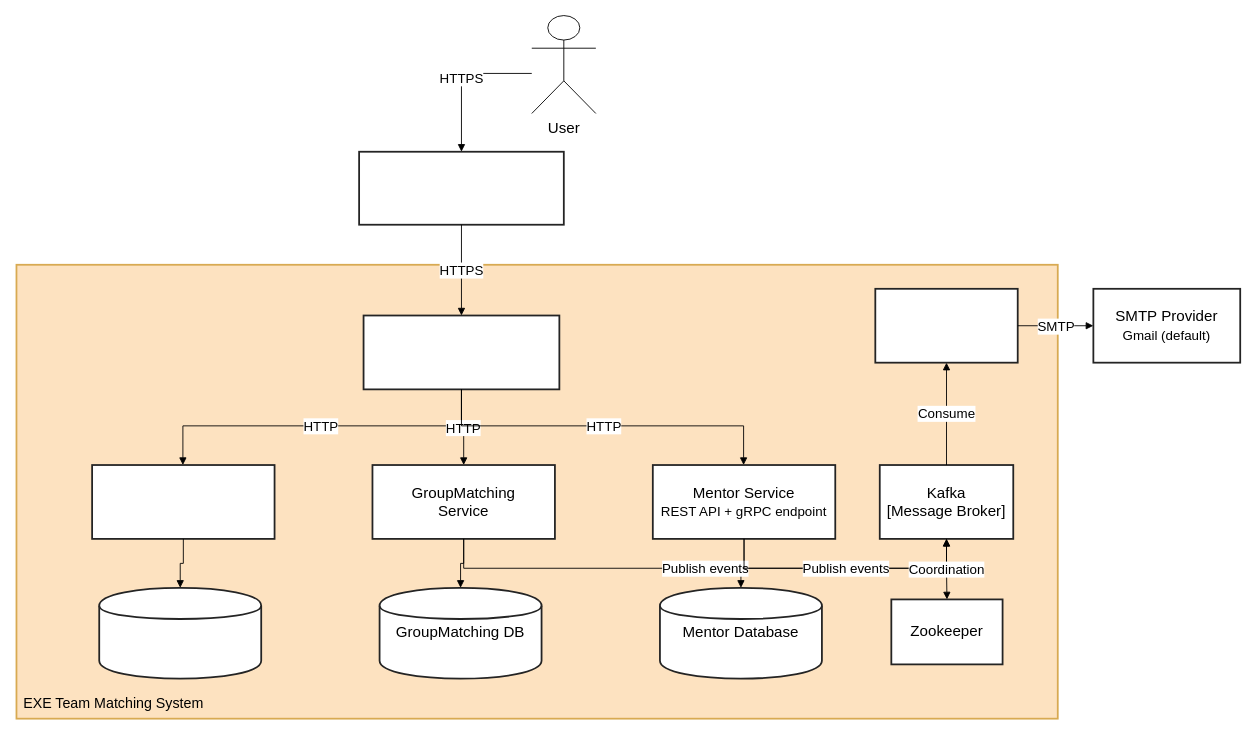
Image size: 1256x735. Some labels were removed from this diagram. Each missing label, with the centre of its shape:
"Identity Database" belongs at [180,633].
"IdentitySemester Service" belongs at [183,501].
"Nginx [API Gateway]" belongs at [461,352].
"Notification Worker" belongs at [946,325].
"Web Application React + Vite" belongs at [461,187].
